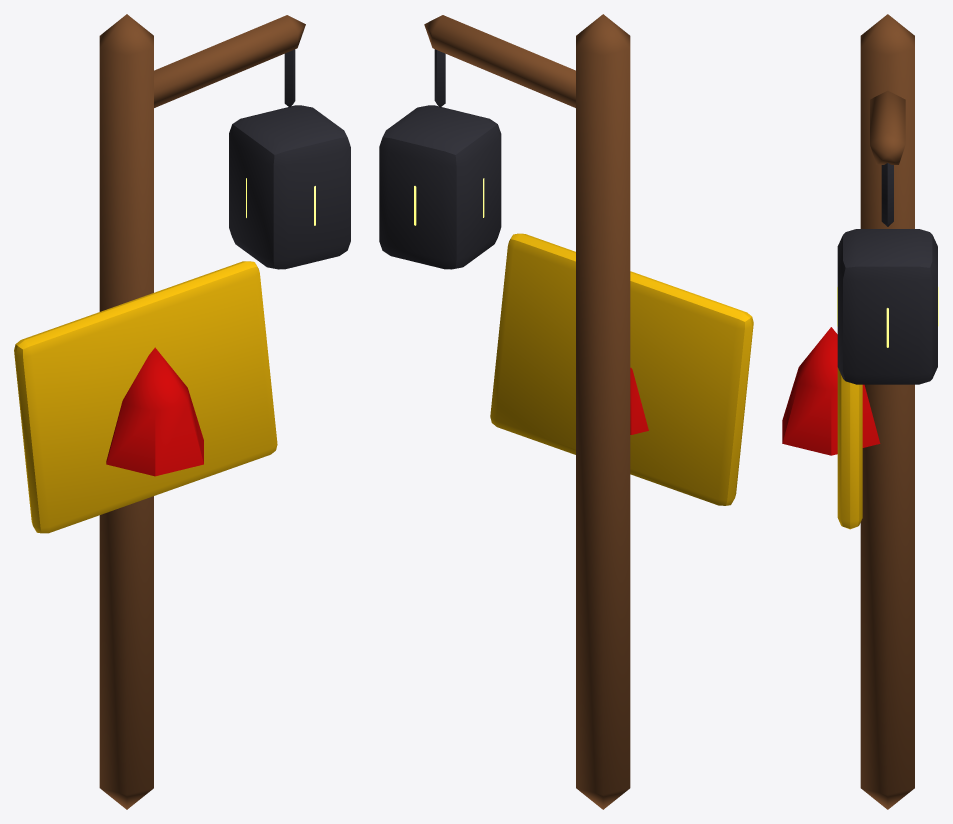
Rendered from W4_Lantern.fbx.
3 renders of one model, left to right at view 1: azimuth 30°, elevation 25°; view 2: azimuth 150°, elevation 25°; view 3: azimuth 270°, elevation 25°, orthographic.
Parts seen in each view (by area): view 1: W4_Lantern; view 2: W4_Lantern; view 3: W4_Lantern.
Part boxes in pixels (x1,y1,x2,y2): W4_Lantern: [14, 14, 350, 809]; W4_Lantern: [379, 14, 753, 809]; W4_Lantern: [782, 14, 938, 809].
Size of the model in its own units: 1.24 by 2.8 by 0.4976.
